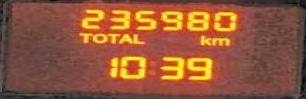0: (117, 54, 144, 79), (211, 9, 238, 30)
1: (107, 54, 115, 79)
2: (80, 7, 103, 28)
3: (159, 54, 181, 80), (106, 7, 130, 28)
5: (131, 7, 157, 30)
8: (185, 10, 209, 29)
9: (184, 56, 212, 80), (159, 7, 181, 30)
X: (210, 35, 230, 46), (146, 56, 156, 77), (197, 32, 211, 46), (91, 32, 107, 44), (106, 31, 120, 44), (77, 31, 91, 44), (130, 33, 144, 45), (120, 33, 130, 44)
